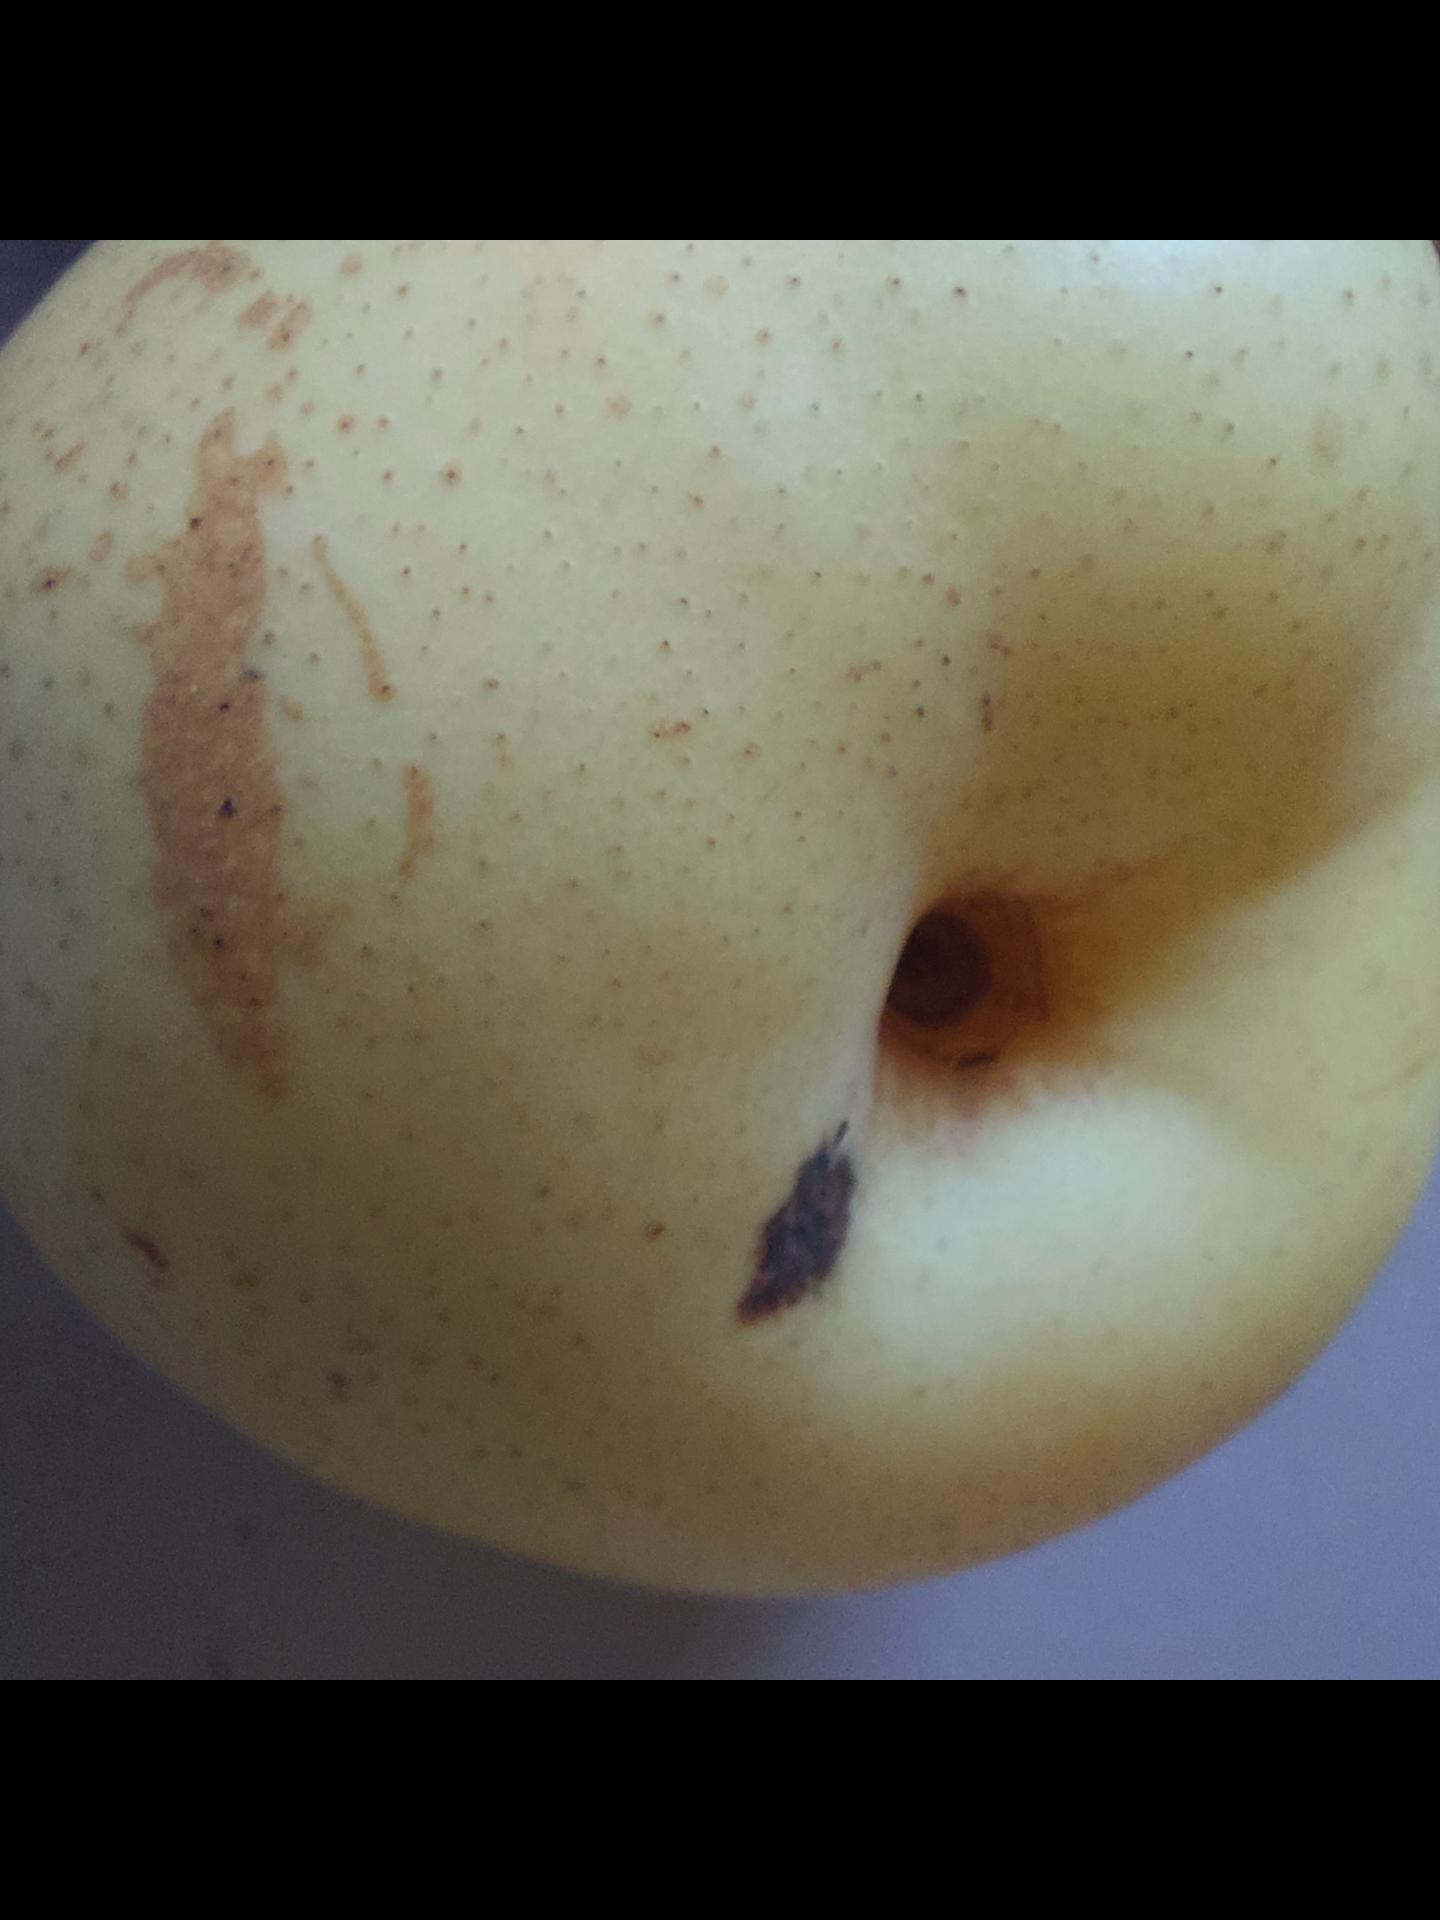Good Pear: (0, 240, 1440, 1619)
